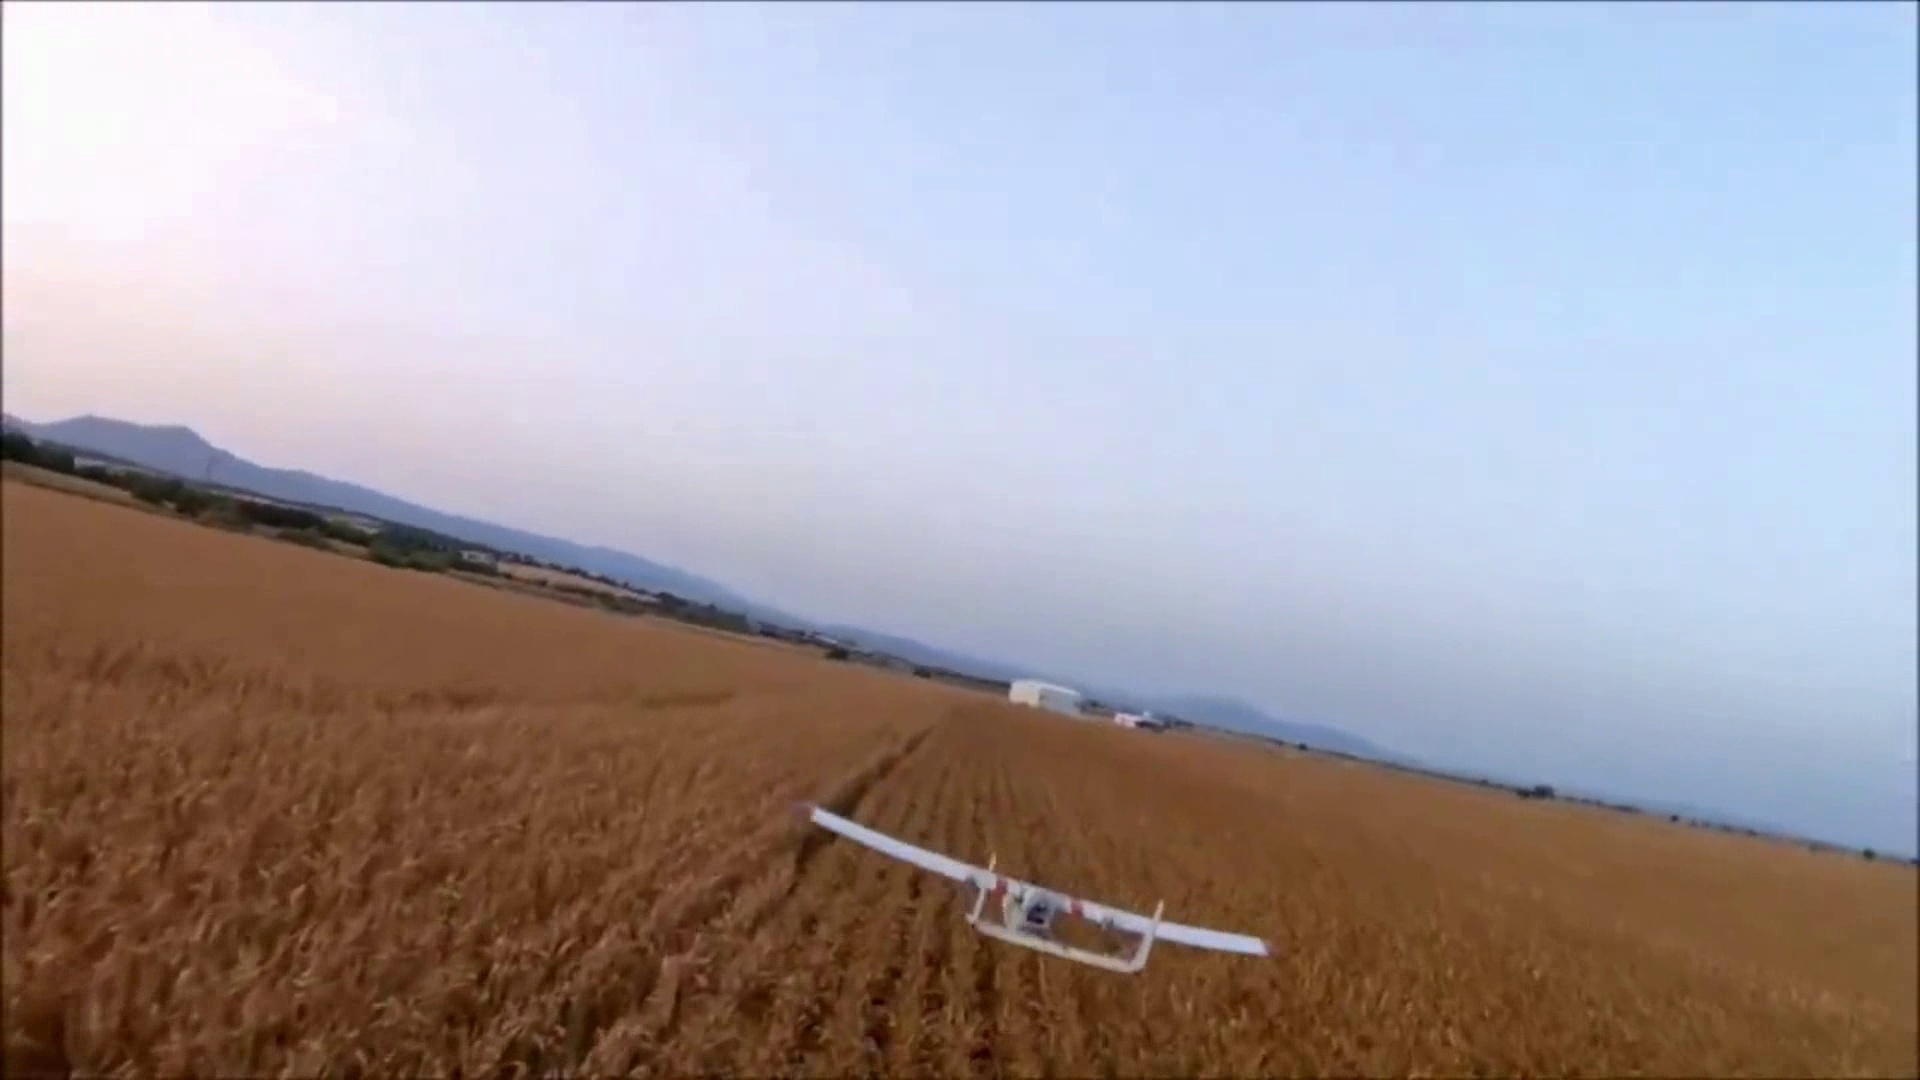airplane: (804, 806, 1271, 975)
